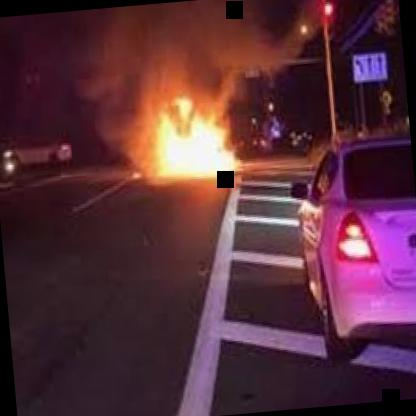fire: (142, 89, 240, 179)
